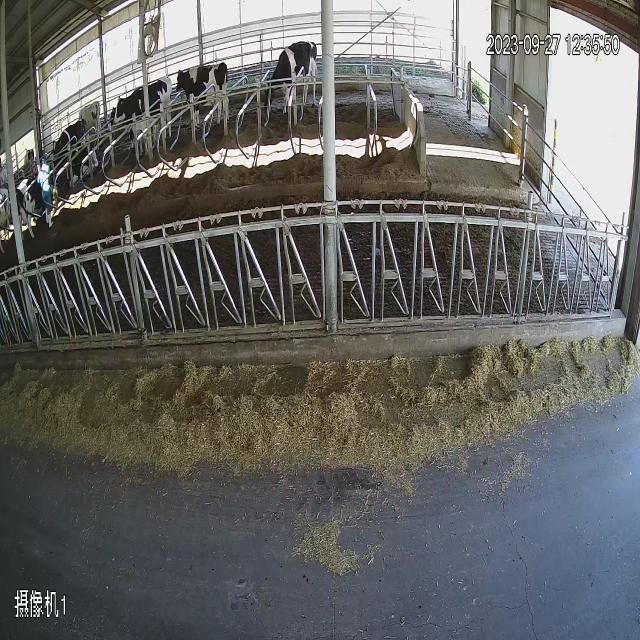standing: (166, 58, 242, 146), (258, 26, 326, 124), (112, 64, 170, 160), (77, 96, 110, 146)
